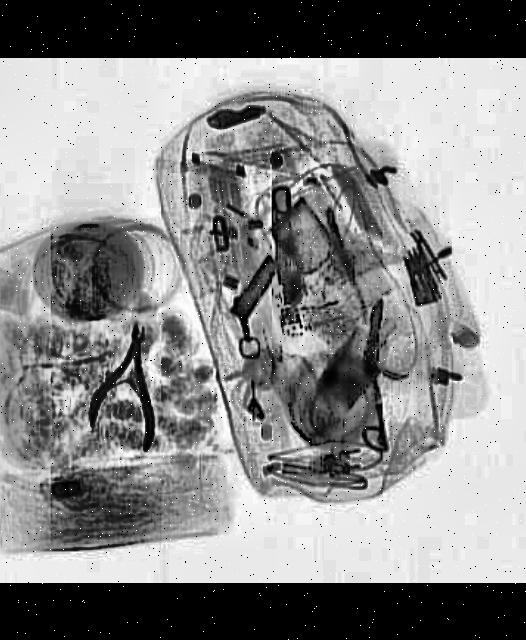Pliers: (85, 320, 176, 454)
